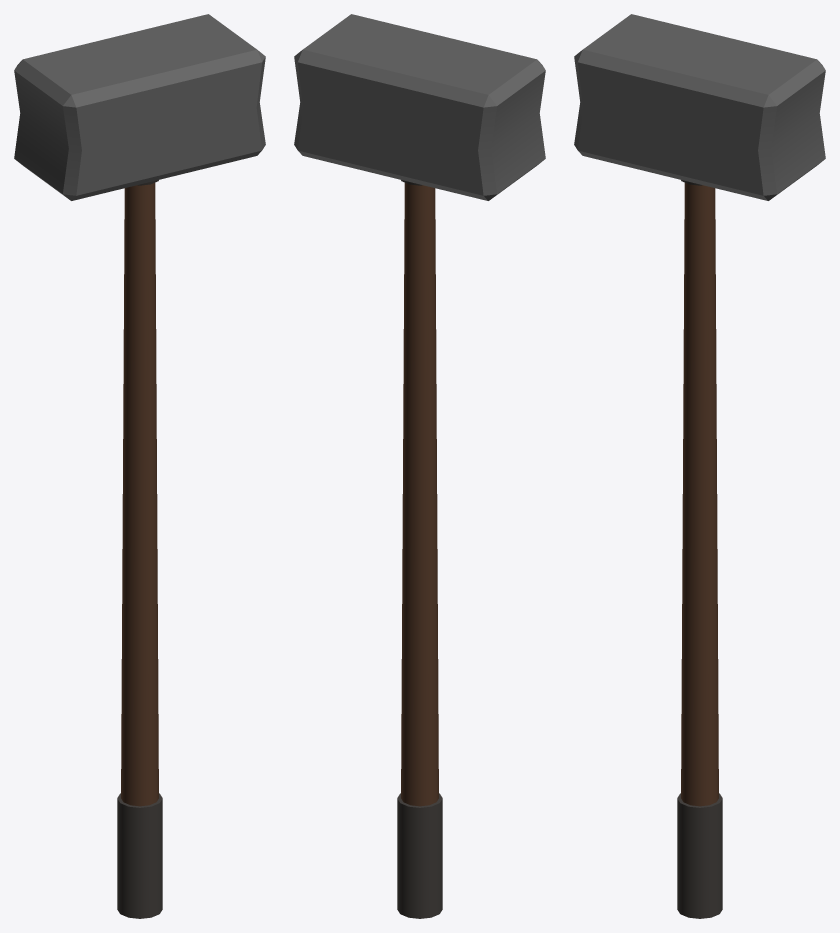
File: Great War Hammer.fbx
The picture shows the model from 3 angles, left to right: view 1: azimuth 30°, elevation 25°; view 2: azimuth 150°, elevation 25°; view 3: azimuth 330°, elevation 25°; orthographic projection.
Visible parts, largest first — view 1: Great War Hammer_Baked; view 2: Great War Hammer_Baked; view 3: Great War Hammer_Baked.
Boxes of the visible parts, box(x1,y1,x2,y2) form: Great War Hammer_Baked: box(14, 14, 265, 918); Great War Hammer_Baked: box(294, 14, 545, 918); Great War Hammer_Baked: box(574, 14, 825, 918).
Size of the model in its own units: 33.78 by 136 by 16.89.
1 material, 1 textured.
